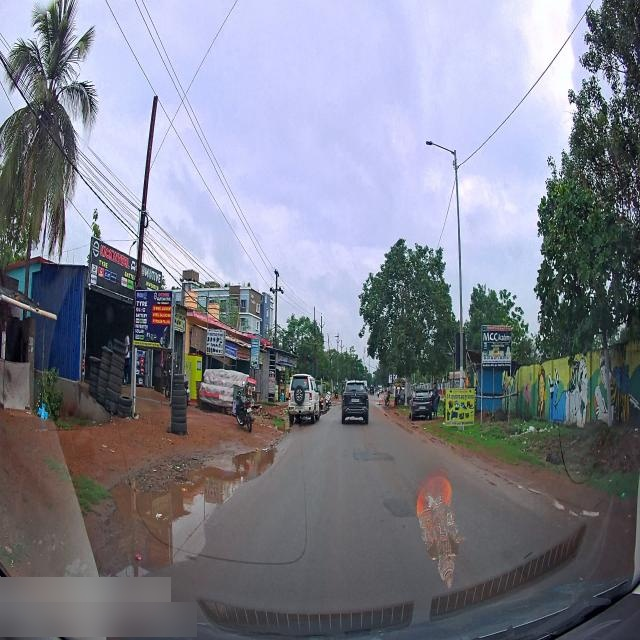pothole: (100, 470, 239, 571), (237, 445, 270, 482), (576, 505, 598, 517), (551, 499, 567, 514)
